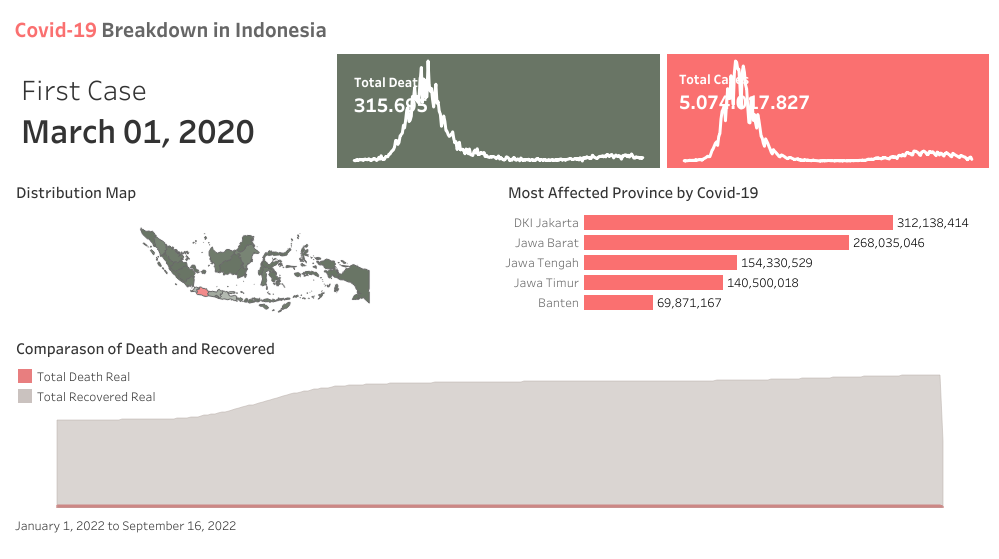

Layout of this report page (visuals, bound fields, positions):
{"tool":"tableau","page":{"name":"Dashboard 4","canvas":[1000,1000],"units":"permille","ordinal":0},"visuals":[{"type":"text","box":[8,14.3,984,74.5]},{"type":"worksheet","title":"First Case","mark":"Automatic","box":[8,88.8,325,216.7]},{"type":"worksheet","title":"Total Kematian","mark":"Line","rows":["New Deaths"],"cols":["Date"],"box":[333,88.8,329.5,216.7]},{"type":"worksheet","title":"Kasus Terkonfirmasi","mark":"Line","rows":["New Cases"],"cols":["Date"],"box":[662.5,88.8,329.5,216.7]},{"type":"worksheet","title":"Kasus Terkonfirmasi (2)","mark":"Line","box":[675,111.9,154,115.5]},{"type":"worksheet","title":"Total Kematian (2)","mark":"Line","box":[350,117.2,101,97.7]},{"type":"worksheet","title":"Peta","mark":"Automatic","box":[8,305.5,492,278.8]},{"type":"worksheet","title":"Worst Province","mark":"Automatic","rows":["Province"],"cols":["Total Cases"],"box":[500,305.5,492,278.8]},{"type":"worksheet","title":"Comparason","mark":"Area","rows":["Calculation_7881331093135367","Calculation_7881331093393416"],"cols":["Date"],"box":[8,584.4,984,330.3]},{"type":"legend","title":"Comparason","param":"[federated.1tymubh0yns4fq14oqf1h0b8byp1].[:Measure Names]","box":[15,653.6,145,103]},{"type":"filter","title":"Total Kematian","param":"[federated.1tymubh0yns4fq14oqf1h0b8byp1].[tdy:Date:qk]","box":[8,914.6,984,71.1]}]}

Visuals, with their boxes on the dashboard's canvas, which has no fixed pixel size, in thousandths of its width and height (x1, y1, x2, y2). These are canvas units, not pixel positions in the 999x559 screenshot, which may show the page scaled, cropped or inside an application window:
text: left=8, top=14, right=992, bottom=89
"First Case" worksheet: left=8, top=89, right=333, bottom=306
"Total Kematian" worksheet (Line marks): left=333, top=89, right=662, bottom=306
"Kasus Terkonfirmasi" worksheet (Line marks): left=662, top=89, right=992, bottom=306
"Kasus Terkonfirmasi (2)" worksheet (Line marks): left=675, top=112, right=829, bottom=227
"Total Kematian (2)" worksheet (Line marks): left=350, top=117, right=451, bottom=215
"Peta" worksheet: left=8, top=306, right=500, bottom=584
"Worst Province" worksheet: left=500, top=306, right=992, bottom=584
"Comparason" worksheet (Area marks): left=8, top=584, right=992, bottom=915
"Comparason" legend: left=15, top=654, right=160, bottom=757
"Total Kematian" filter: left=8, top=915, right=992, bottom=986
